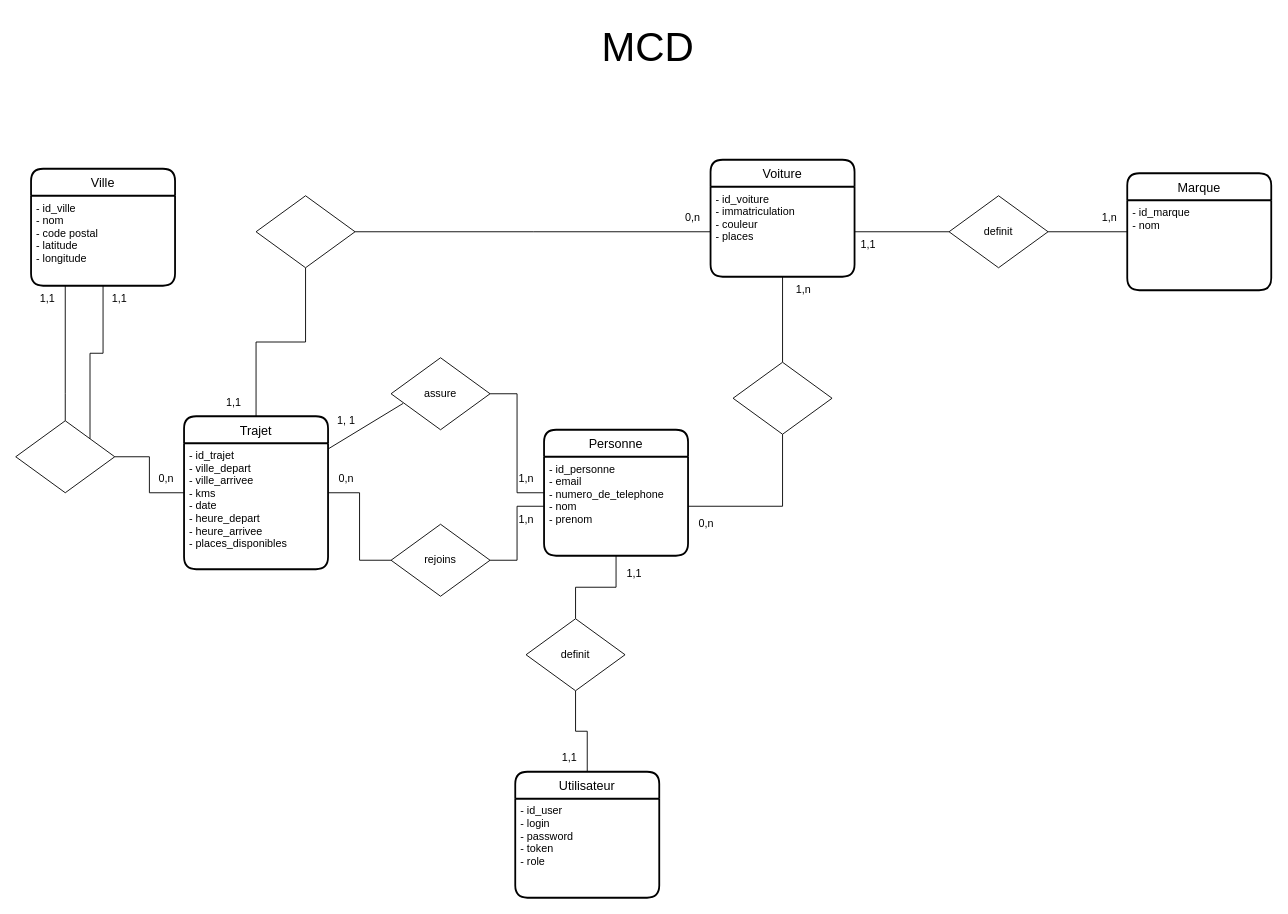
The diagram is 1288 pixels wide and 914 high, and some of its shapes have lost their labels. Each missing label, with the centre of its shape:
choisir: the point at 305,231
concerne: the point at 65,456
possede: the point at 782,397
